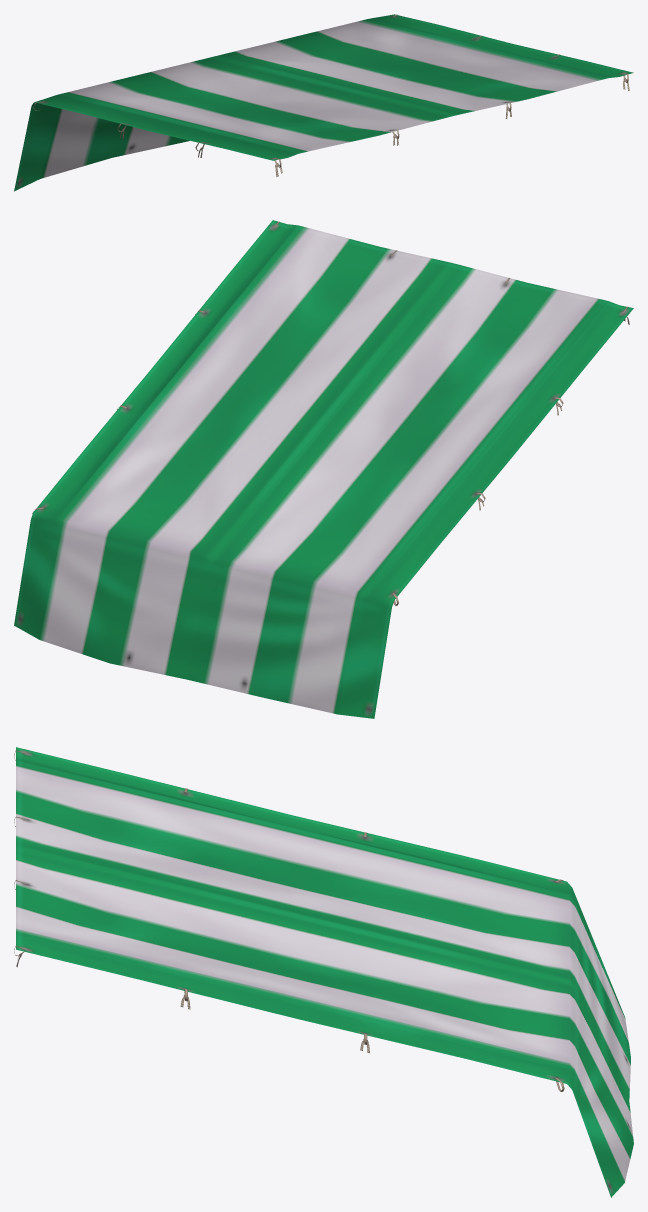
File: jsf_Ceiling_s01_c04_t02.fbx
3 views of the same model, one above another, from view 1: azimuth 30°, elevation 25°; view 2: azimuth 150°, elevation 25°; view 3: azimuth 270°, elevation 25° (orthographic). The views are drawn at different scales.
Visible parts, largest first — view 1: jsf_Ceiling_s01_c04_t02; view 2: jsf_Ceiling_s01_c04_t02; view 3: jsf_Ceiling_s01_c04_t02.
Part boxes in pixels (left/top/right/bottom): jsf_Ceiling_s01_c04_t02: left=14, top=14, right=633, bottom=191; jsf_Ceiling_s01_c04_t02: left=14, top=220, right=633, bottom=718; jsf_Ceiling_s01_c04_t02: left=14, top=747, right=633, bottom=1197.
Size of the model in its own units: 184 by 106 by 234.
